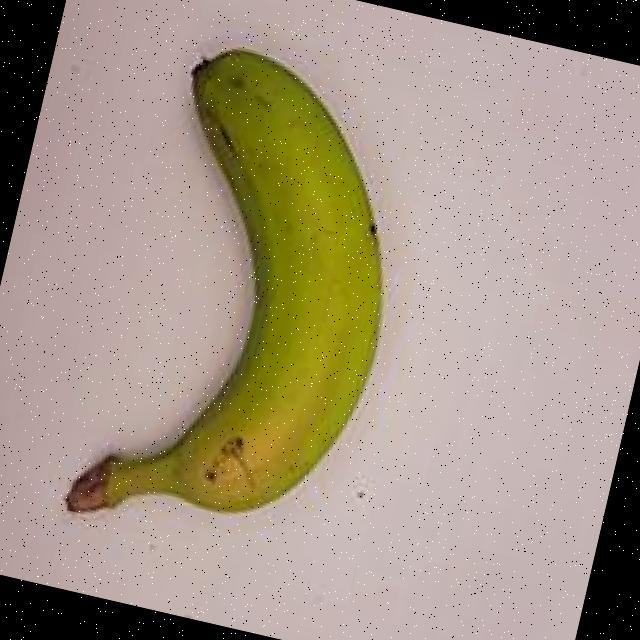Unripe: (39, 14, 467, 601)
